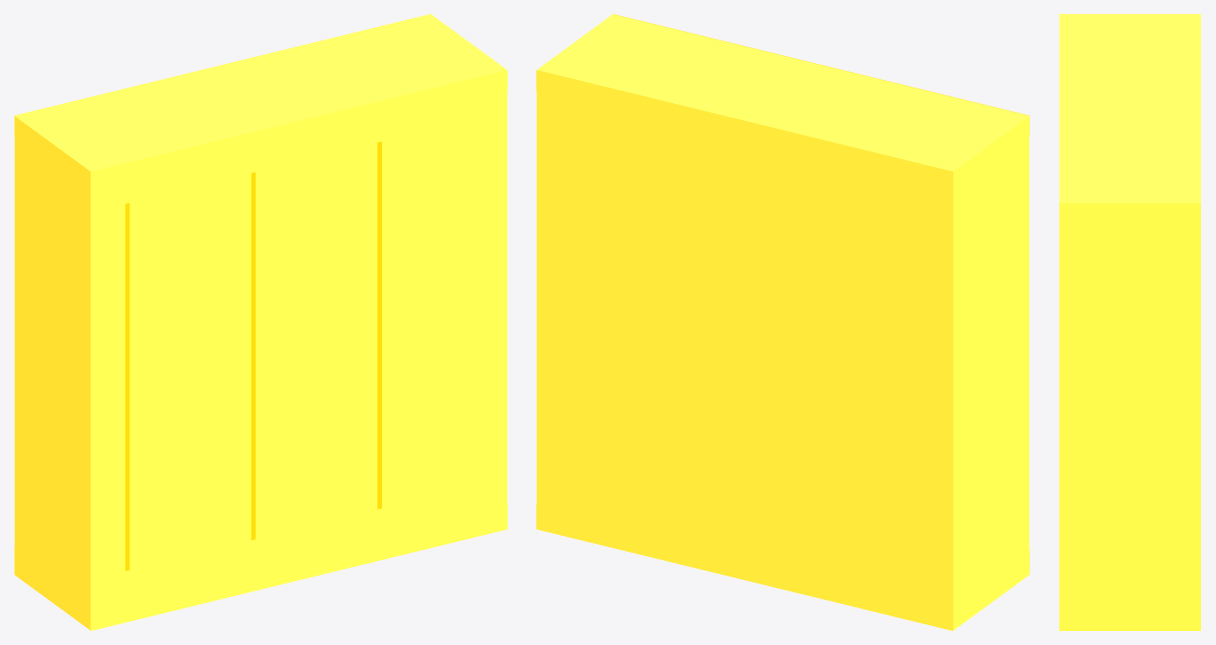
File: ENV_MOD_12_ServerRackBank.glb
The picture shows the model from 3 angles, left to right: view 1: azimuth 30°, elevation 25°; view 2: azimuth 150°, elevation 25°; view 3: azimuth 270°, elevation 25°; orthographic projection. The views are drawn at different scales.
Visible parts, largest first — view 1: SM_ENV_MOD_12_ServerRackBank; view 2: SM_ENV_MOD_12_ServerRackBank; view 3: SM_ENV_MOD_12_ServerRackBank.
Boxes of the visible parts, left/top/right/bottom form: SM_ENV_MOD_12_ServerRackBank: left=14, top=14, right=507, bottom=630; SM_ENV_MOD_12_ServerRackBank: left=536, top=14, right=1029, bottom=630; SM_ENV_MOD_12_ServerRackBank: left=1059, top=14, right=1200, bottom=630.
Bounding box in the file's own units: 3.8 × 4 × 1.22.
